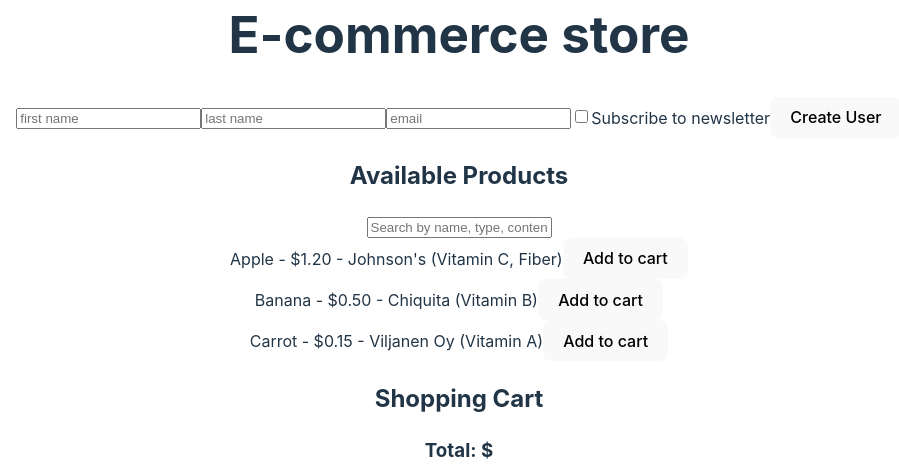
it: App Component - Search Query Filtering › should return no products if no match is found
In the field with placeholder "Search by name, type, contents or producer": (459, 227) [366,217,552,238], type "Nonexistent"
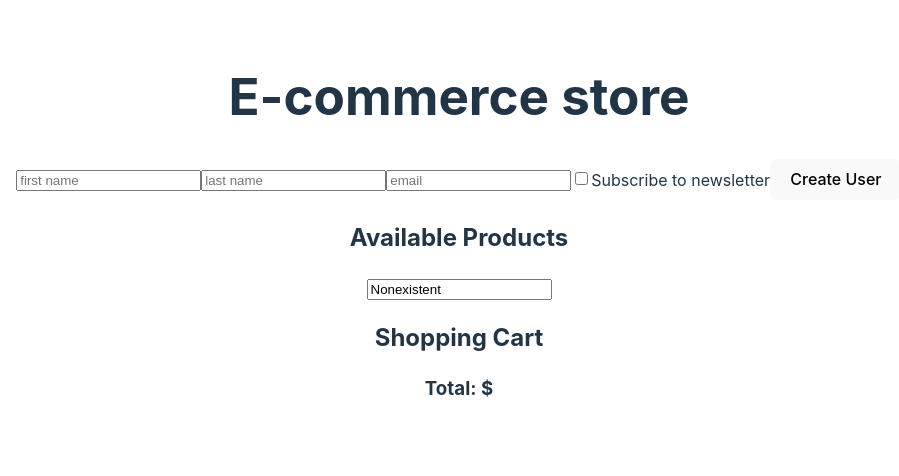
Check: the text "Apple - $1.20 - Johnson's (Vitamin C, Fiber) Add to cart" is gone
